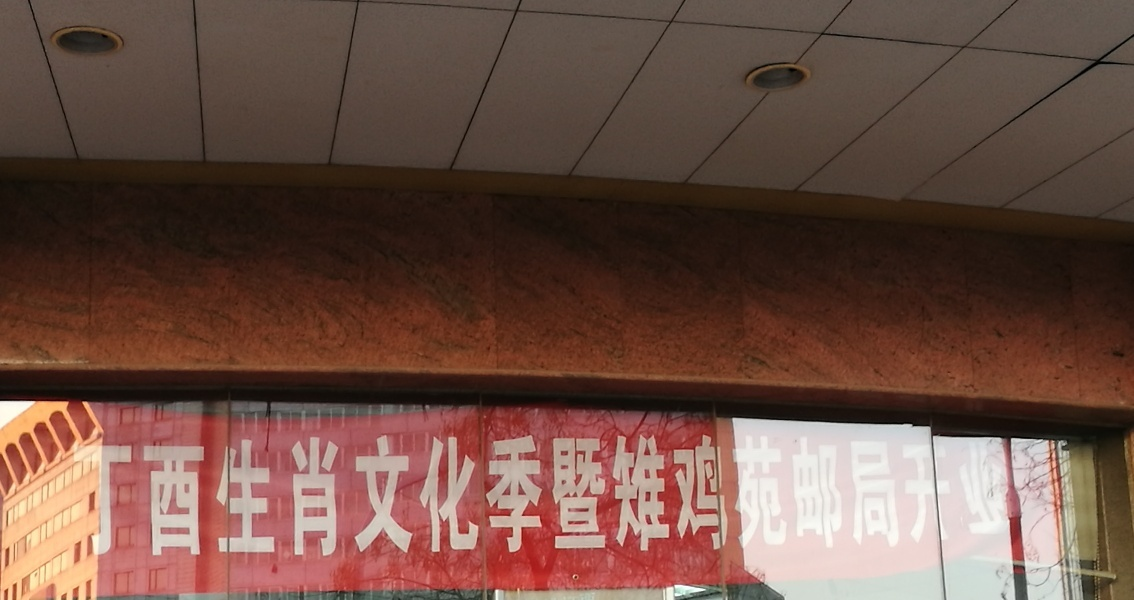text: (81, 428, 96, 565), (97, 428, 112, 565), (113, 428, 128, 565), (129, 428, 144, 565), (145, 428, 160, 565), (161, 428, 176, 565), (177, 428, 192, 565), (193, 428, 208, 565), (209, 428, 224, 565), (225, 428, 240, 565), (241, 428, 256, 565), (257, 428, 272, 565), (273, 428, 288, 565), (289, 428, 304, 565), (305, 428, 320, 565), (321, 428, 336, 565), (337, 428, 352, 565), (353, 428, 368, 565), (369, 428, 384, 565), (385, 428, 400, 565), (401, 428, 416, 565), (417, 428, 432, 565), (433, 428, 448, 565), (449, 428, 464, 565), (465, 428, 480, 565), (481, 428, 496, 565), (497, 428, 512, 565), (513, 428, 528, 565), (529, 428, 544, 565), (545, 428, 560, 565), (561, 428, 576, 565), (577, 428, 592, 565), (593, 428, 608, 565), (609, 428, 624, 565), (625, 428, 640, 565), (641, 428, 656, 565), (657, 428, 672, 565), (673, 428, 688, 565), (689, 428, 704, 565), (705, 428, 720, 565), (721, 428, 736, 565), (737, 428, 752, 565), (753, 428, 768, 565), (769, 428, 784, 565), (785, 428, 800, 565), (801, 428, 816, 565), (817, 428, 832, 565), (833, 428, 848, 565), (849, 428, 864, 565), (865, 428, 880, 565), (881, 428, 896, 565), (897, 428, 912, 565), (913, 428, 928, 565), (929, 428, 944, 565), (945, 428, 960, 565), (961, 428, 976, 565), (977, 428, 992, 565), (993, 428, 1008, 565), (68, 428, 80, 565), (1009, 428, 1019, 565)
